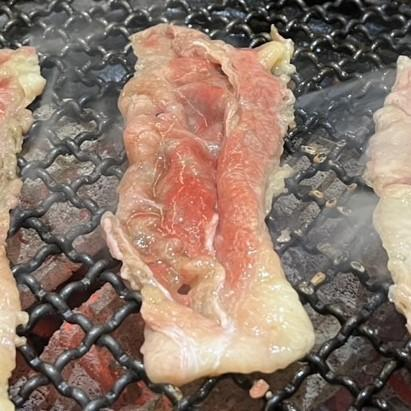Undercooked: (101, 24, 313, 385)
